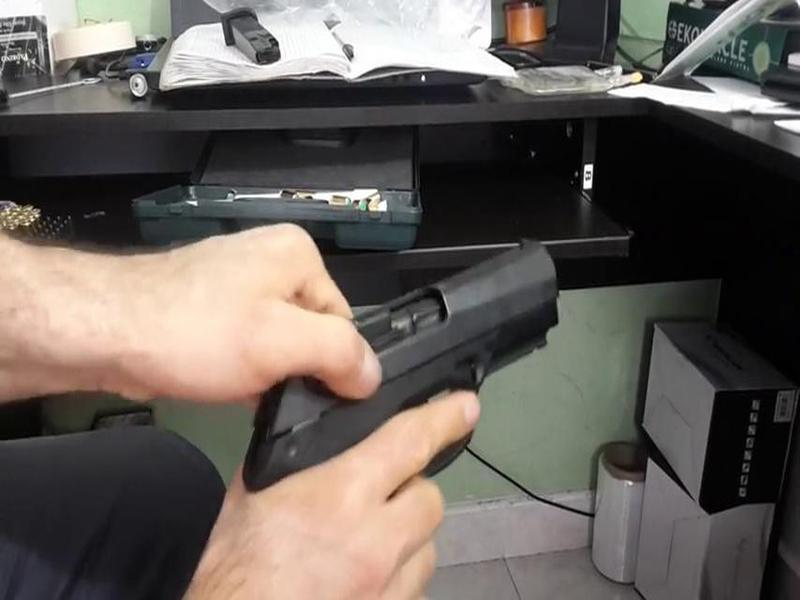Pistola: (249, 227, 569, 486)
